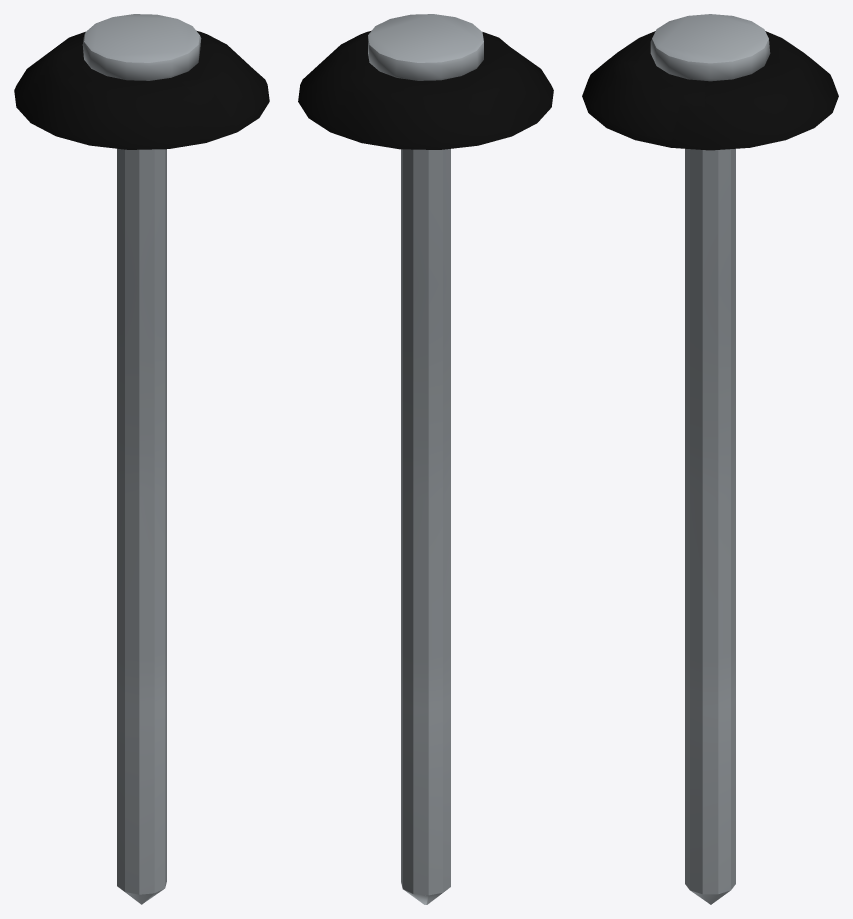
File: COB-ACS-004_lod1.glb
The picture shows the model from 3 angles, left to right: view 1: azimuth 30°, elevation 25°; view 2: azimuth 150°, elevation 25°; view 3: azimuth 270°, elevation 25°; orthographic projection.
Visible parts, largest first — view 1: COB-ACS-004_haste, COB-ACS-004_arruela, COB-ACS-004_cabeca; view 2: COB-ACS-004_haste, COB-ACS-004_arruela, COB-ACS-004_cabeca; view 3: COB-ACS-004_haste, COB-ACS-004_arruela, COB-ACS-004_cabeca.
Part boxes in pixels (x1,y1,x2,y2): COB-ACS-004_haste: (117,148,166,894); COB-ACS-004_arruela: (14,30,269,149); COB-ACS-004_cabeca: (82,14,201,80); COB-ACS-004_haste: (401,149,450,895); COB-ACS-004_arruela: (298,30,553,149); COB-ACS-004_cabeca: (368,14,483,80); COB-ACS-004_haste: (685,148,735,894); COB-ACS-004_arruela: (582,31,838,150); COB-ACS-004_cabeca: (650,14,770,81).
Bounding box in the file's own units: 0.0172 × 0.064 × 0.0172.
2 materials, 2 textured.
